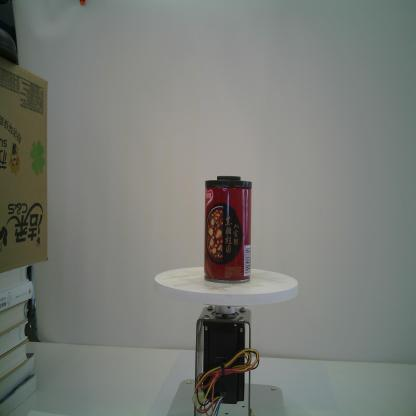Canned Food: (203, 174, 253, 286)
